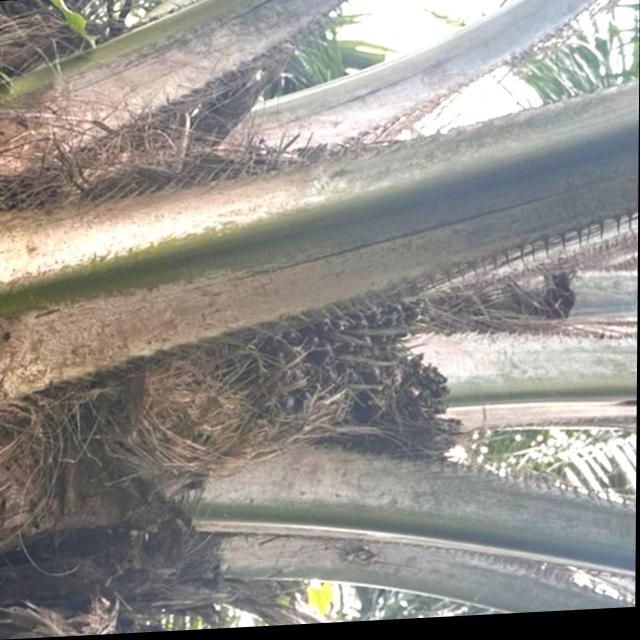almost: (200, 286, 438, 455)
